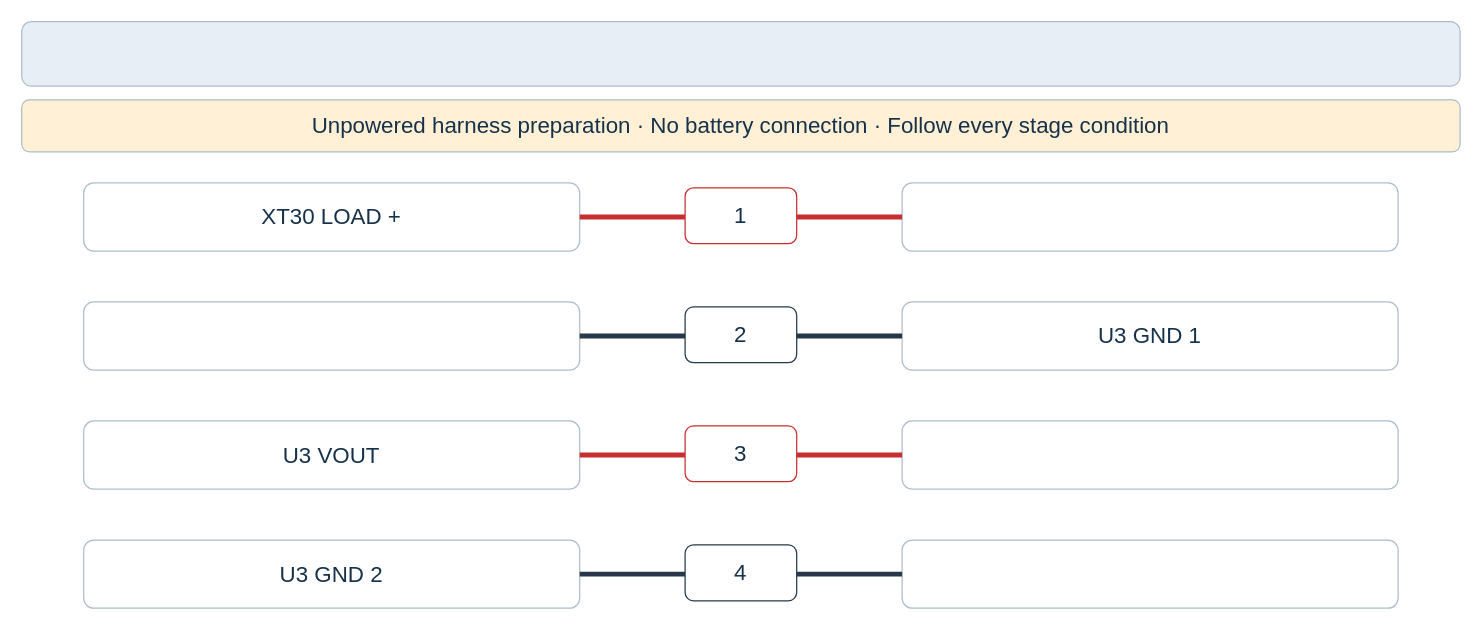
This 1482x630 diagram has some shape labels left out. Here are the shapes that lost their labels. From the top down, the box of each, then its label:
(20, 20, 1460, 86): 2 · Prepare U3 and the XT30 load side
(901, 182, 1398, 251): U3 VIN
(82, 301, 580, 370): XT30 LOAD −
(901, 420, 1398, 489): 5V BUS
(901, 539, 1398, 608): GND BUS
